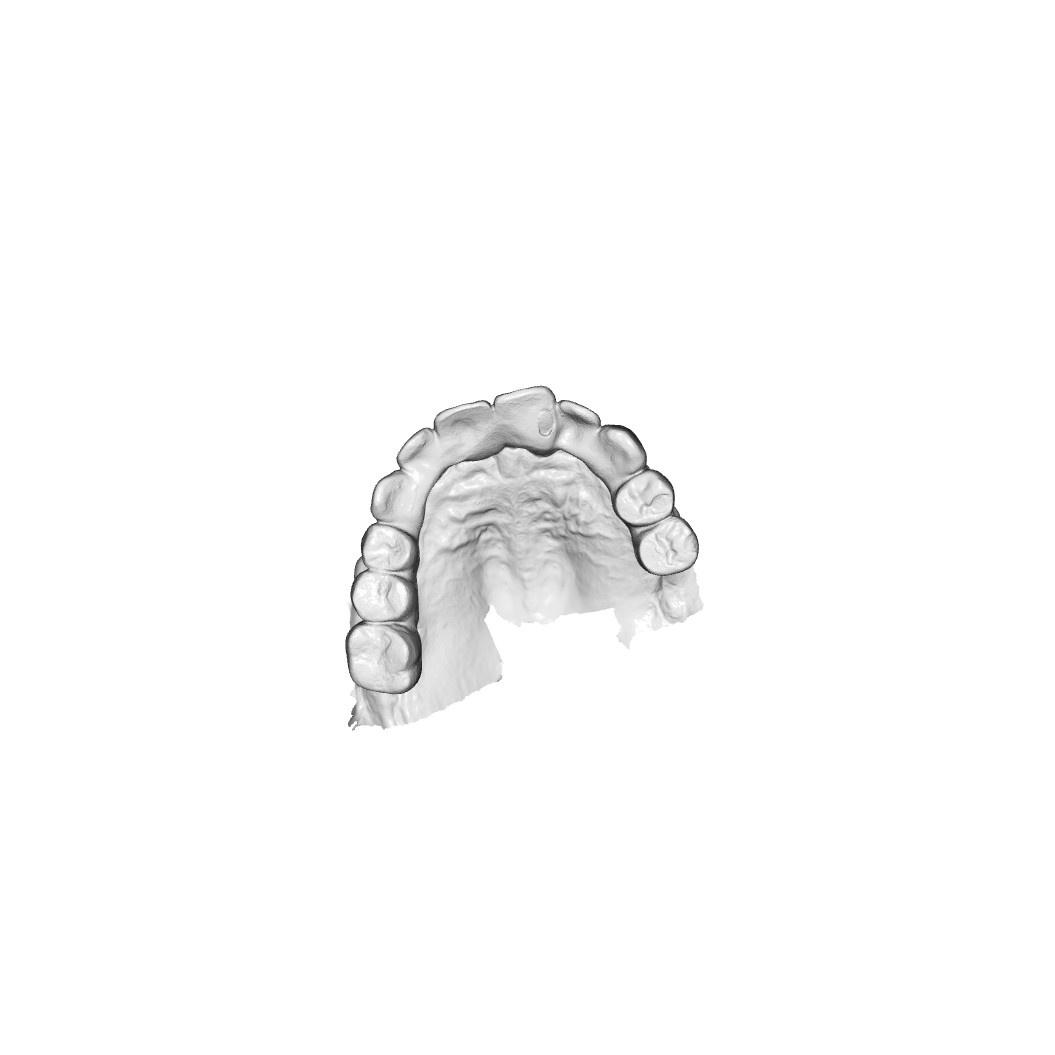canine: (595, 422, 645, 484), (369, 473, 429, 522)
incisor: (491, 384, 559, 450), (434, 398, 493, 463), (554, 396, 602, 457), (395, 428, 441, 476)
molar: (348, 625, 425, 702)
premolar: (614, 467, 678, 531), (352, 570, 413, 619), (642, 523, 698, 574), (361, 523, 412, 570)
